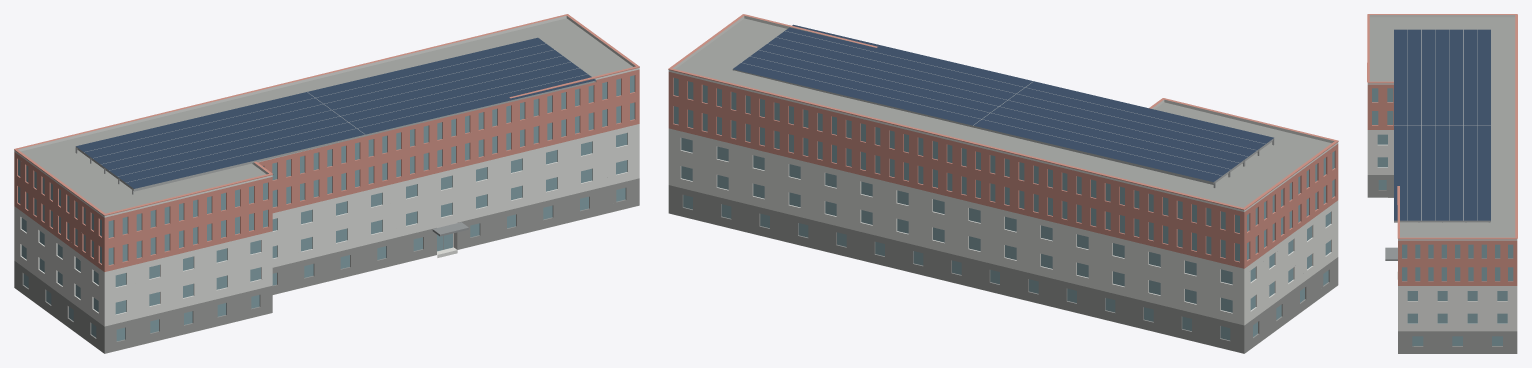
3 renders of one model, left to right at view 1: azimuth 30°, elevation 25°; view 2: azimuth 150°, elevation 25°; view 3: azimuth 270°, elevation 25°, orthographic. The views are drawn at different scales.
Parts seen in each view (by area): view 1: b743648656__trim, b743648656__wall, b743648656__pvPanel, b743648656__glass, b743648656__wall2, b743648656__roof, b743648656__pvFrame, b743648656__parapet; view 2: b743648656__trim, b743648656__wall, b743648656__pvPanel, b743648656__wall2, b743648656__glass, b743648656__roof, b743648656__pvFrame, b743648656__parapet; view 3: b743648656__pvPanel, b743648656__roof, b743648656__trim, b743648656__wall, b743648656__glass, b743648656__wall2, b743648656__pvFrame, b743648656__parapet, b743648656__canopy.
Boxes of the visible parts, x1,y1,x2,y2 form: b743648656__trim: [14, 14, 639, 271]; b743648656__wall: [14, 124, 639, 326]; b743648656__pvPanel: [76, 37, 595, 188]; b743648656__glass: [18, 75, 634, 341]; b743648656__wall2: [14, 178, 639, 353]; b743648656__roof: [16, 18, 638, 353]; b743648656__pvFrame: [75, 43, 596, 194]; b743648656__parapet: [14, 15, 639, 217]; b743648656__trim: [668, 14, 1338, 268]; b743648656__wall: [668, 128, 1338, 325]; b743648656__pvPanel: [733, 24, 1273, 182]; b743648656__wall2: [668, 185, 1338, 353]; b743648656__glass: [673, 78, 1334, 340]; b743648656__roof: [670, 18, 1333, 353]; b743648656__pvFrame: [732, 31, 1274, 187]; b743648656__parapet: [668, 15, 1338, 211]; b743648656__pvPanel: [1394, 29, 1490, 220]; b743648656__roof: [1369, 17, 1515, 237]; b743648656__trim: [1367, 14, 1517, 285]; b743648656__wall: [1367, 130, 1517, 331]; b743648656__glass: [1372, 88, 1513, 346]; b743648656__wall2: [1367, 175, 1517, 353]; b743648656__pvFrame: [1394, 29, 1490, 222]; b743648656__parapet: [1367, 15, 1517, 240]; b743648656__canopy: [1385, 247, 1397, 260].
Bounding box in the file's own units: 76.71 × 19.22 × 21.74.
